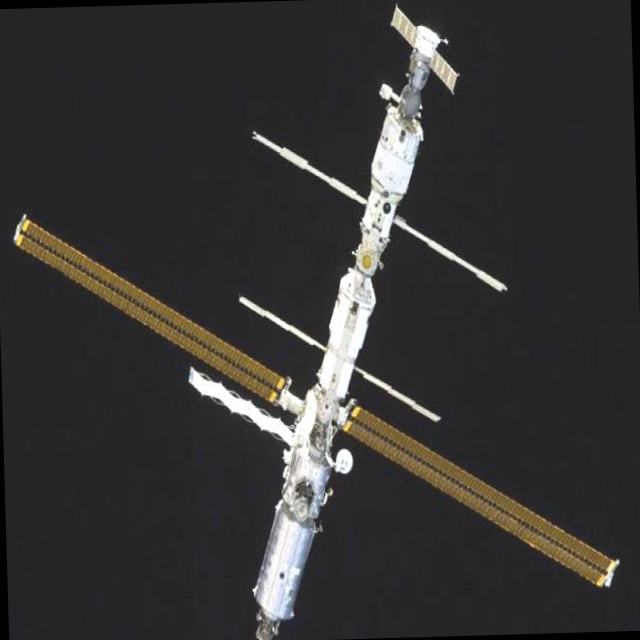satellite: (7, 14, 592, 640)
